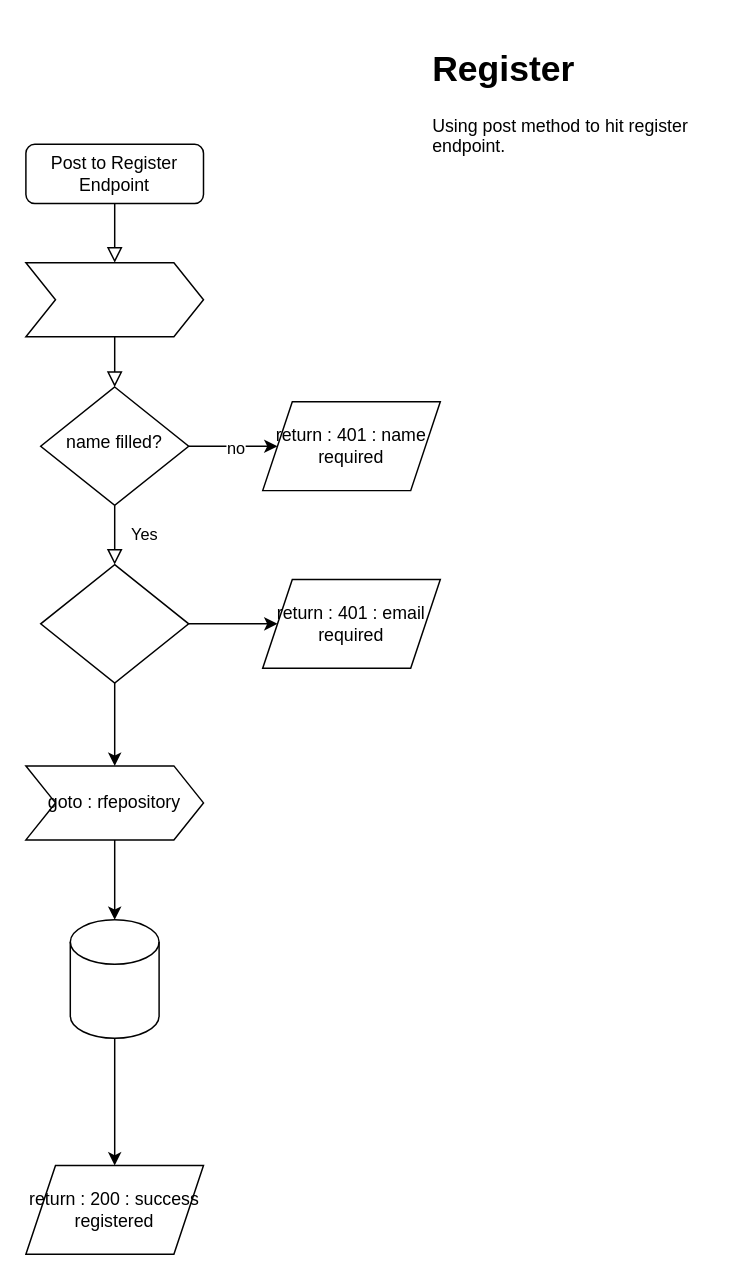
Some shapes in this 733 by 1280 pixel diagram are drawn without their labels. The shapes that lost their labels are listed below. From the top down, each one's centre as x and y in pixels, then its label:
(114,299): goto : controller
(114,623): email filled?
(114,978): imput to database
